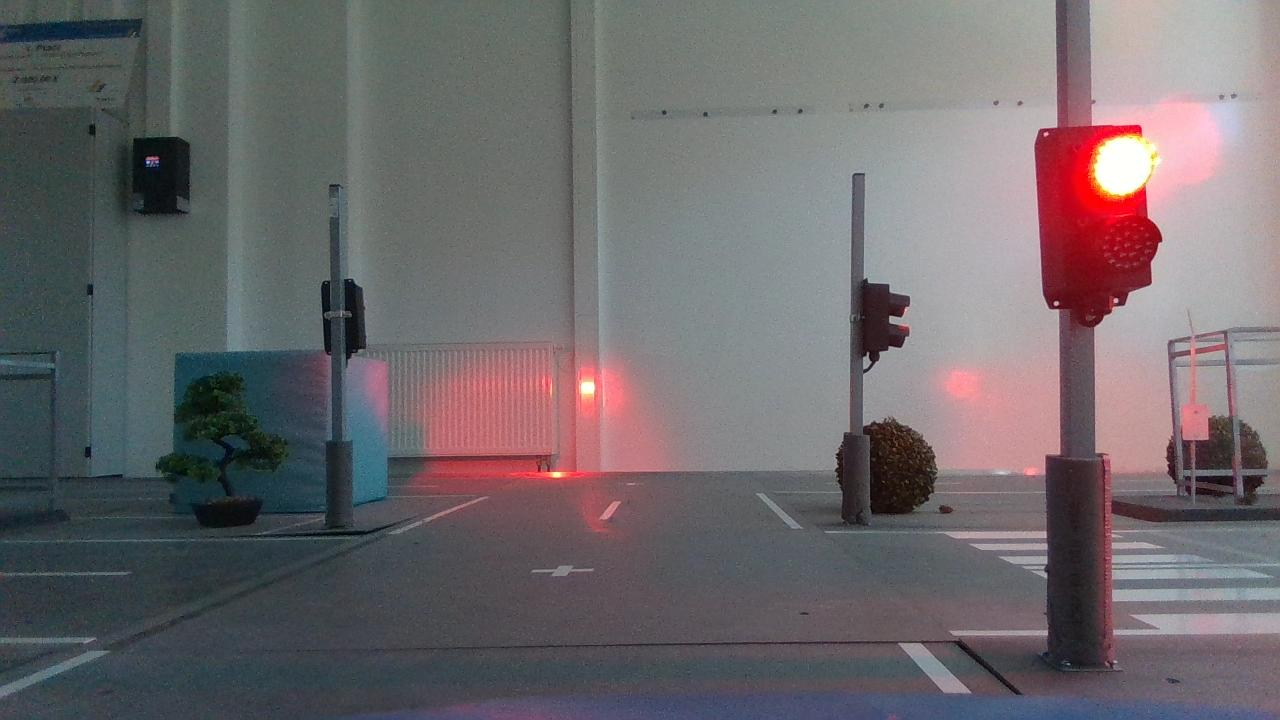traffic_light_red: (1023, 110, 1165, 319)
